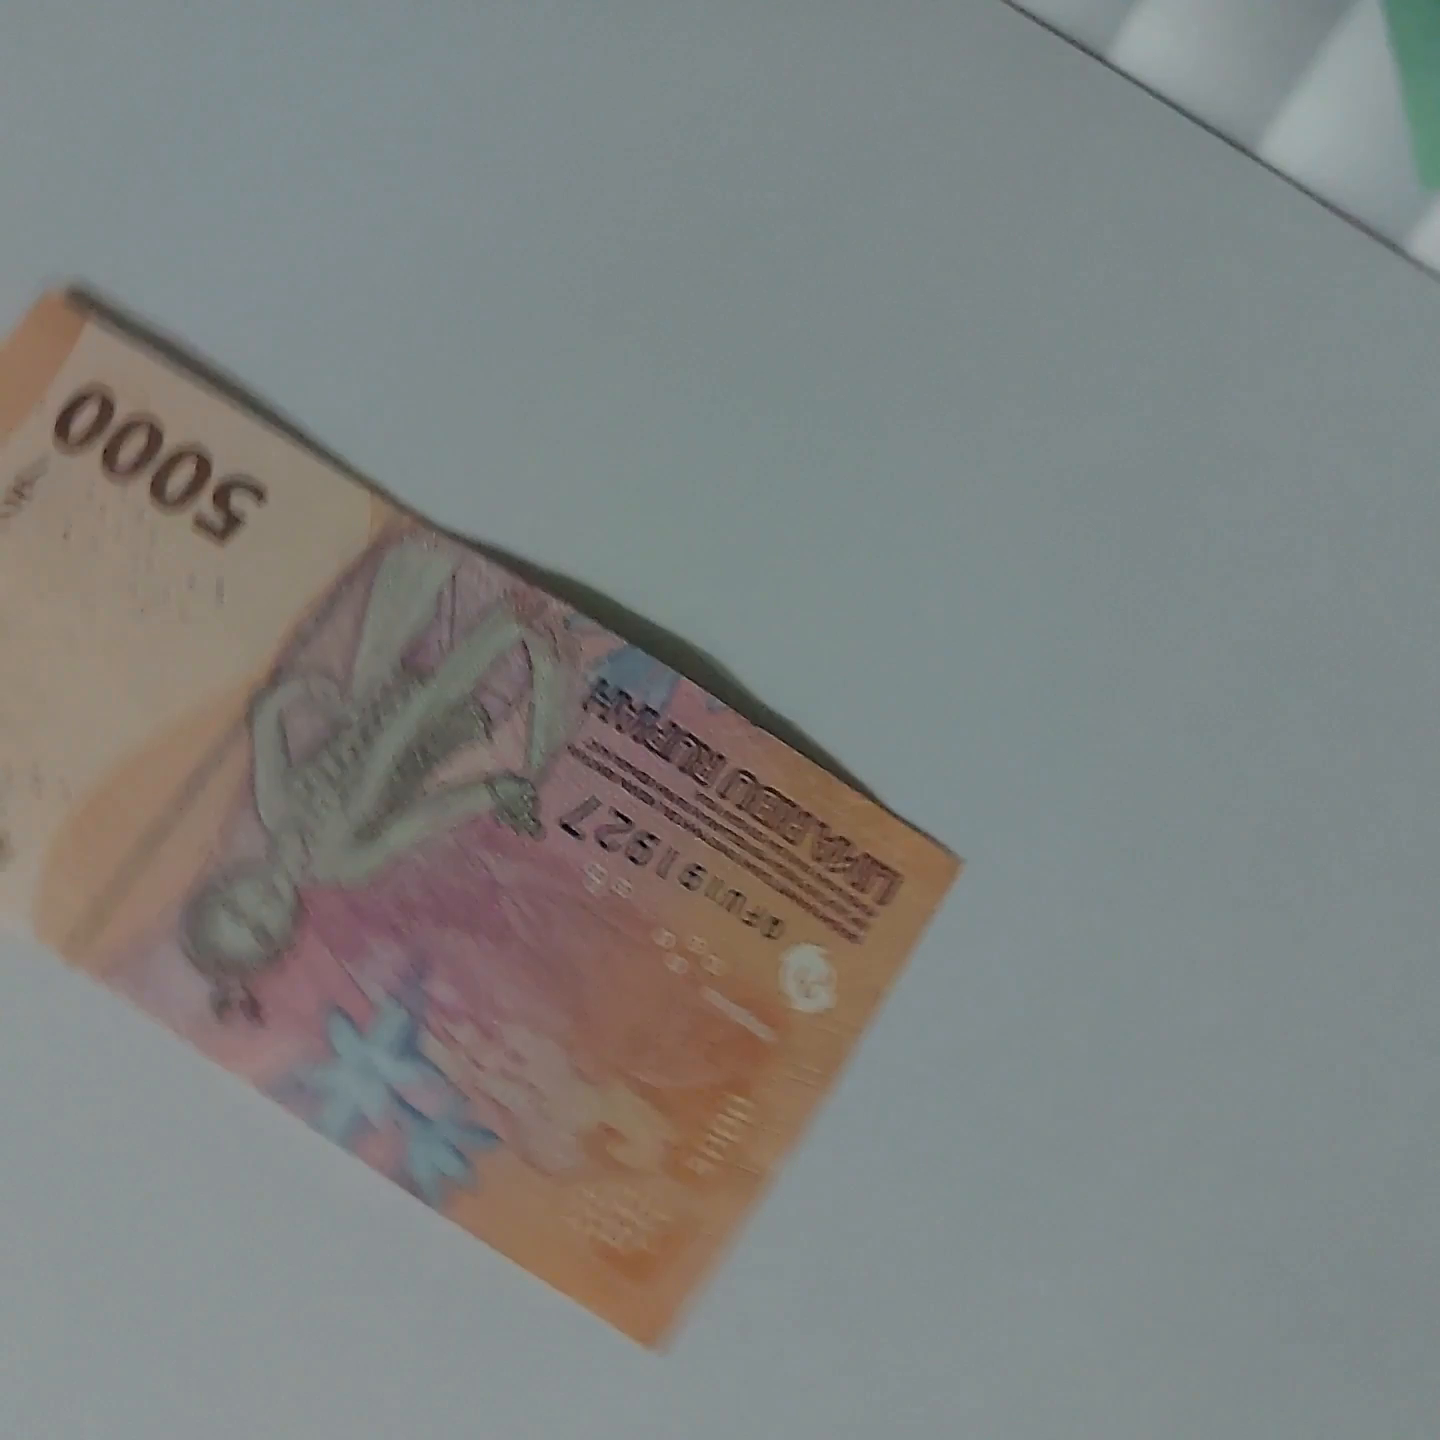5k: (0, 257, 945, 1379)
